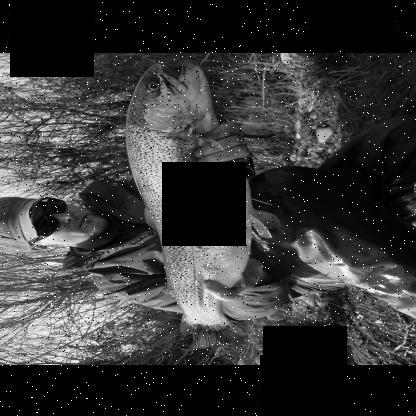fish: (125, 59, 251, 350)
